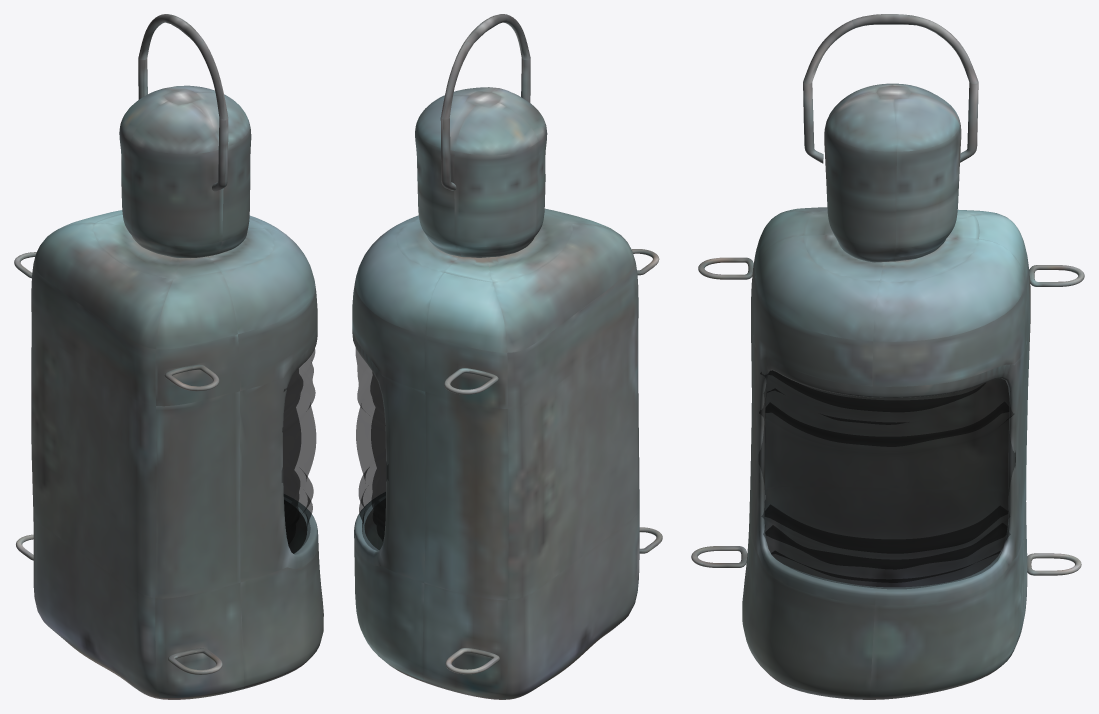
The model's file is latern-v2 (1).glb.
The picture shows the model from 3 angles, left to right: view 1: azimuth 30°, elevation 25°; view 2: azimuth 150°, elevation 25°; view 3: azimuth 270°, elevation 25°; orthographic projection. The views are drawn at different scales.
Visible parts, largest first — view 1: Object_2, Object_3; view 2: Object_2, Object_3; view 3: Object_2, Object_3.
Boxes of the visible parts, x1,y1,x2,y2 form: Object_2: (14,14,323,699); Object_3: (282,349,316,553); Object_2: (352,14,662,699); Object_3: (355,348,388,550); Object_2: (691,14,1084,699); Object_3: (758,370,1015,588).
Size of the model in its own units: 0.185 by 0.509 by 0.2843.
2 materials, 1 textured.
